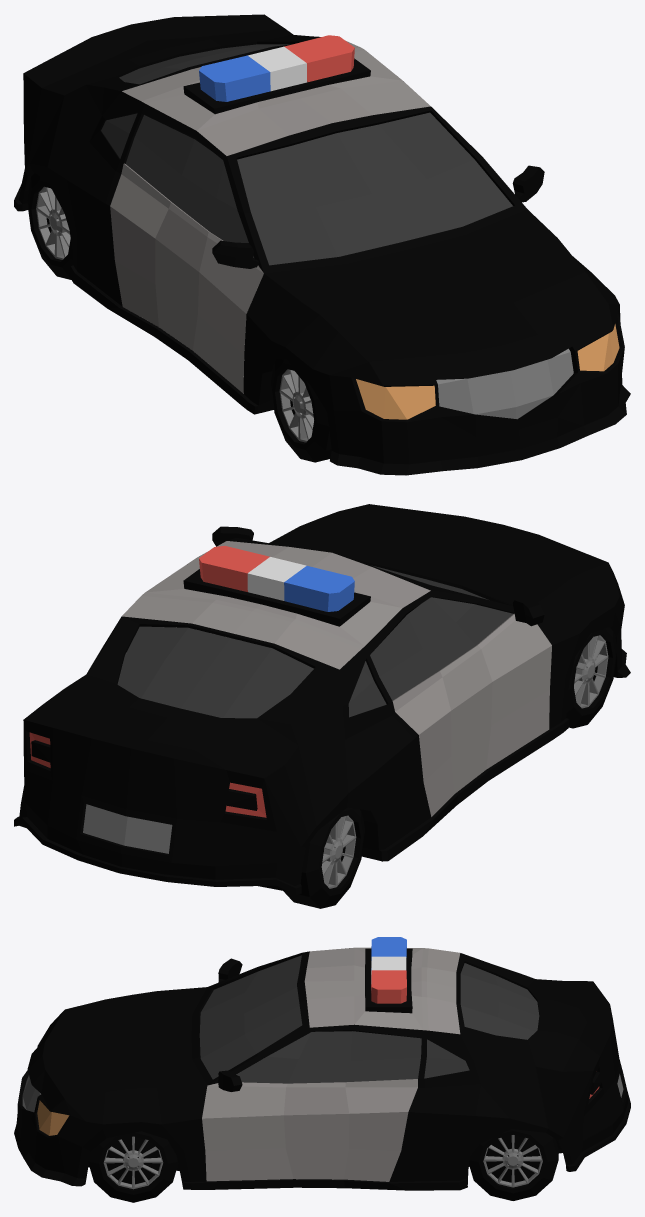
File: Cop.glb
3 views of the same model, one above another, from view 1: azimuth 30°, elevation 25°; view 2: azimuth 150°, elevation 25°; view 3: azimuth 270°, elevation 25° (orthographic). The views are drawn at different scales.
Visible parts, largest first — view 1: Cop, Cop_FrontRightWheel, Cop_BackWheels; view 2: Cop, Cop_BackWheels, Cop_FrontRightWheel; view 3: Cop, Cop_BackWheels, Cop_FrontLeftWheel.
Boxes of the visible parts, x1,y1,x2,y2 form: Cop: [14, 14, 630, 475]; Cop_FrontRightWheel: [270, 358, 331, 462]; Cop_BackWheels: [27, 173, 73, 279]; Cop: [14, 504, 630, 895]; Cop_BackWheels: [283, 807, 364, 908]; Cop_FrontRightWheel: [566, 627, 617, 728]; Cop: [14, 937, 630, 1190]; Cop_BackWheels: [469, 1129, 558, 1200]; Cop_FrontLeftWheel: [88, 1131, 178, 1202].
Bounding box in the file's own units: 1.78 × 1.24 × 3.73.
